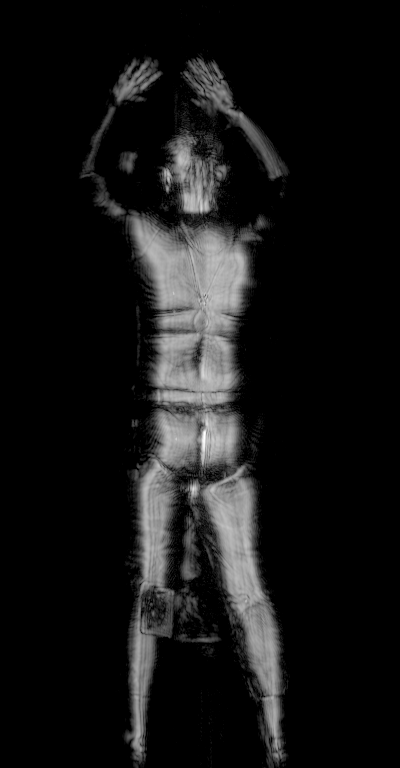head: (153, 123, 235, 199)
others: (135, 579, 177, 644)
person: (78, 55, 288, 768)
